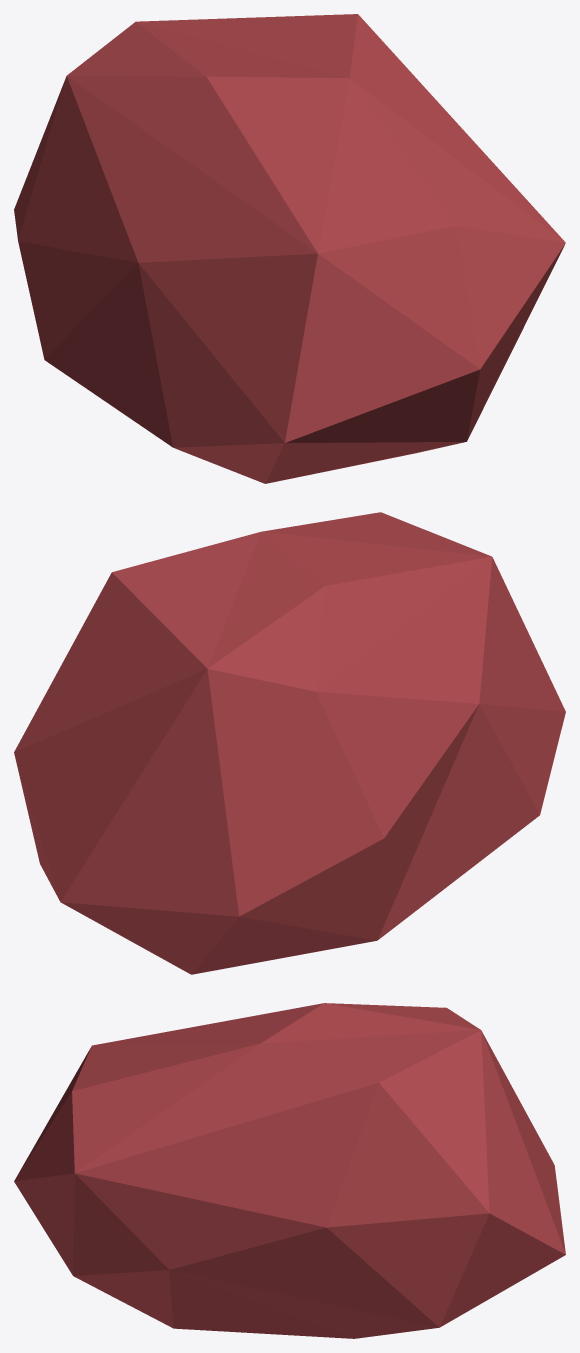
File: Rock_A.fbx
3 renders of one model, top to bottom at view 1: azimuth 30°, elevation 25°; view 2: azimuth 150°, elevation 25°; view 3: azimuth 270°, elevation 25°, orthographic. The views are drawn at different scales.
Parts seen in each view (by area): view 1: Rock A; view 2: Rock A; view 3: Rock A.
Boxes of the visible parts, x1=… form: Rock A: x1=14, y1=14, x2=565, y2=483; Rock A: x1=14, y1=512, x2=565, y2=974; Rock A: x1=14, y1=1003, x2=565, y2=1338.
Bounding box in the file's own units: 25.46 × 23.13 × 39.84.
